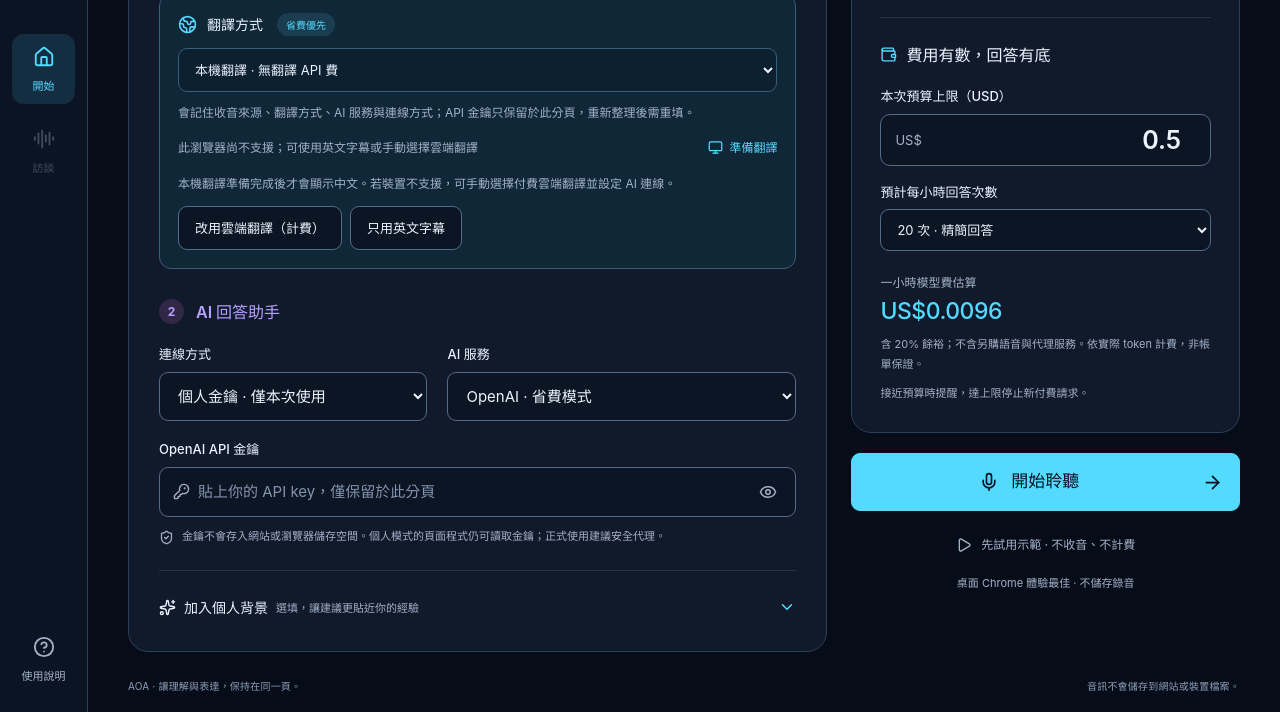
translation readiness before starting › allows explicit English-only mode after failure without starting until requested
The width and height of the screenshot is (1280, 712).
(page scrolled)
Type "test-only-key" into the password field labelled "OpenAI API 金鑰" at (470, 492), box [198,468,741,516]
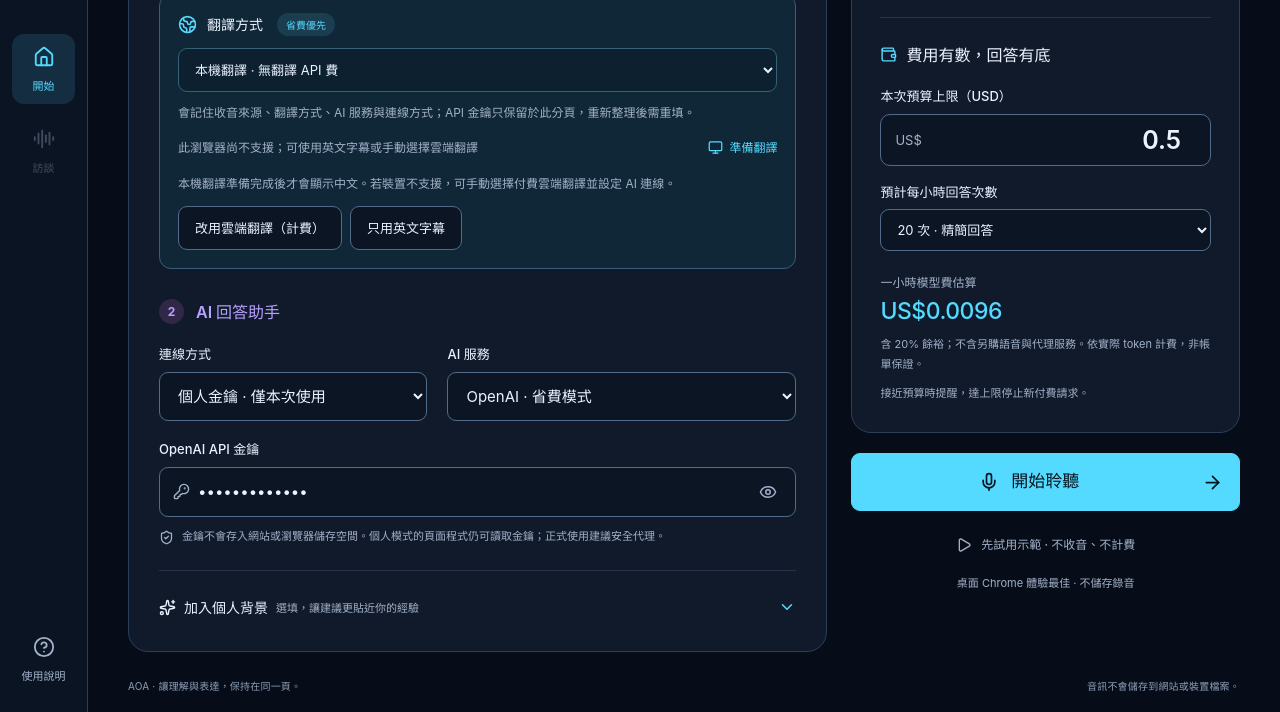
Click the button "開始聆聽" at (1046, 482), box [851,453,1240,511]
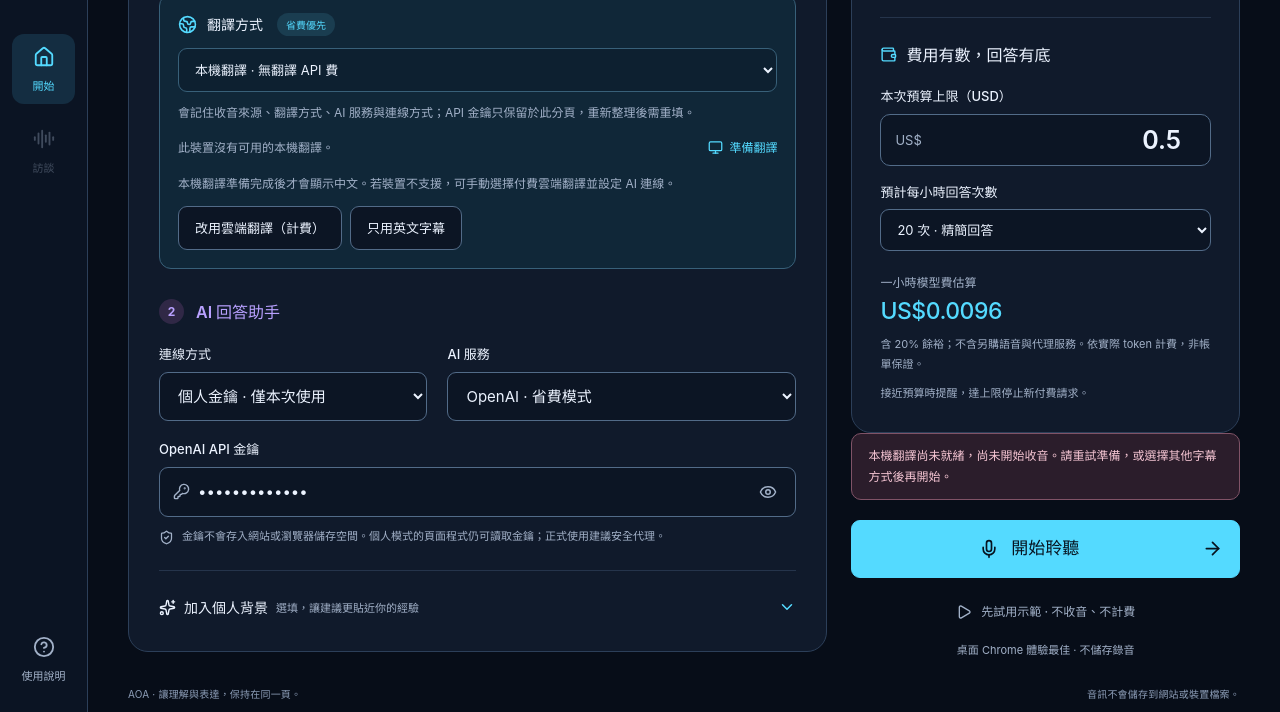
Click the button "只用英文字幕" at (406, 228), box [350,206,462,250]
(page scrolled)
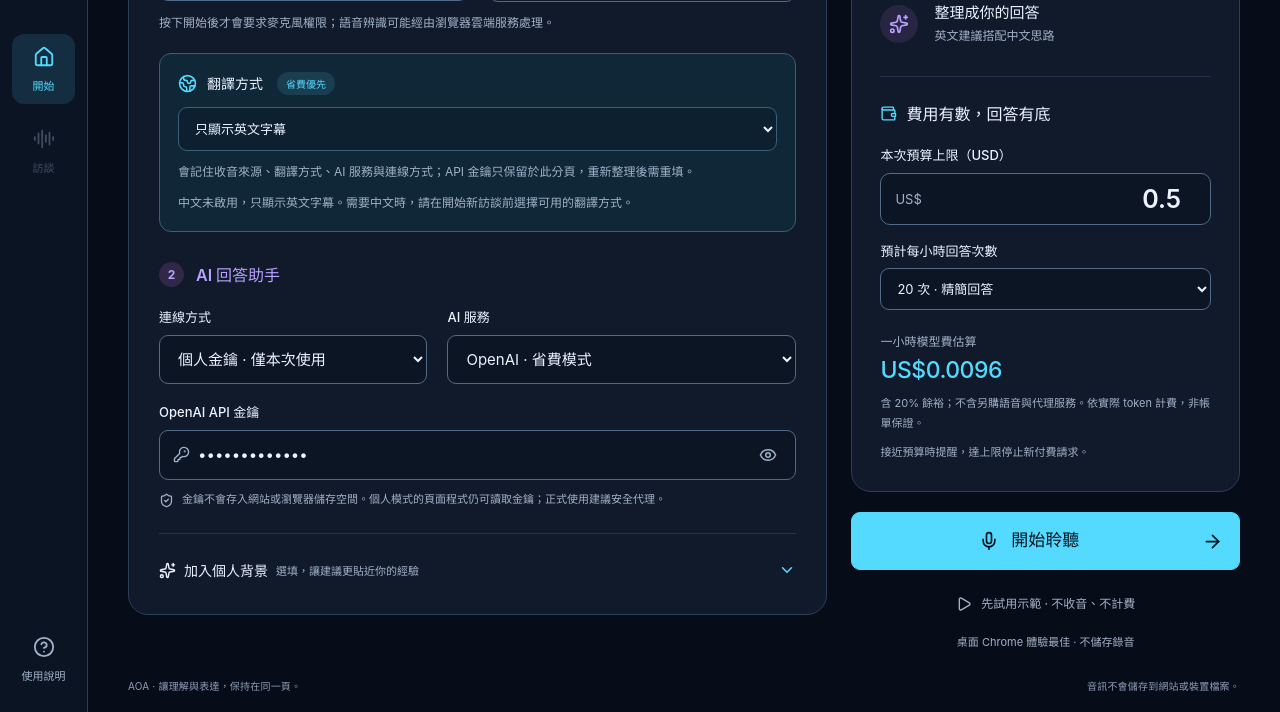
Expected: the dropdown labelled "翻譯方式" shows "只顯示英文字幕", [178,107,777,151]
Click the button "開始聆聽" at (1046, 541), box [851,512,1240,570]
(page scrolled)
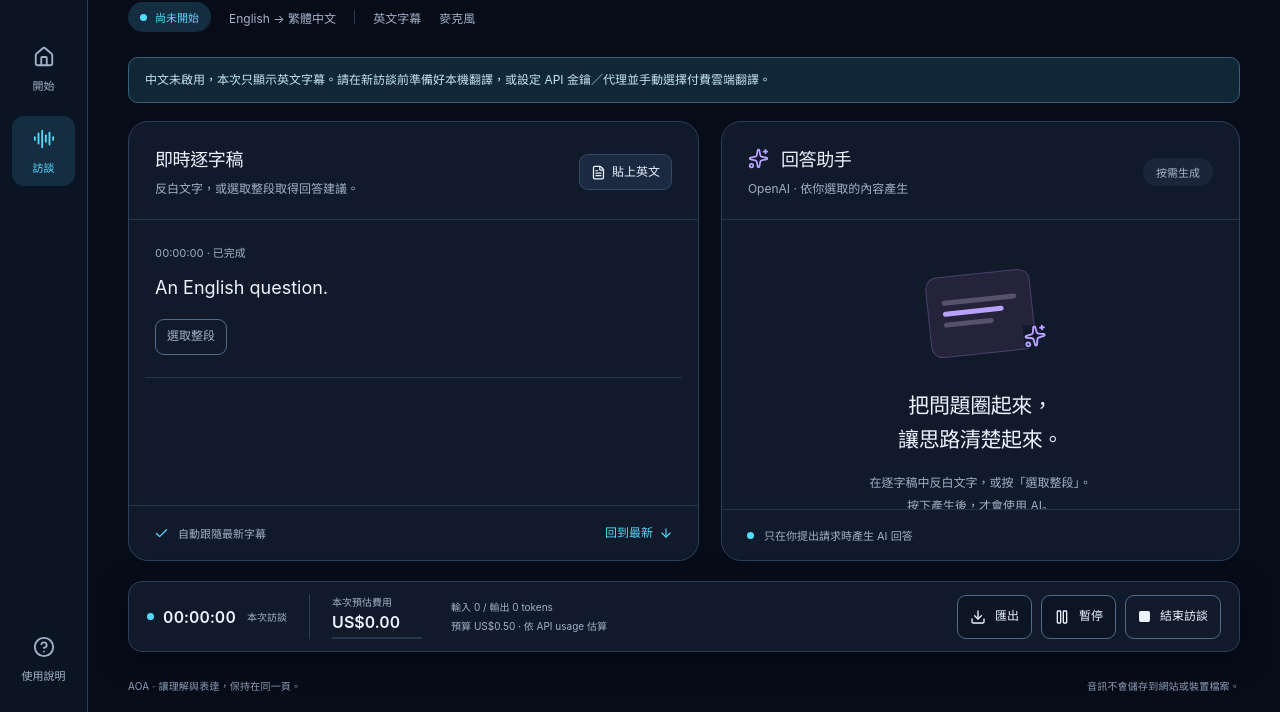
Expected: the text "An English question." is shown, [155,277,328,298]
